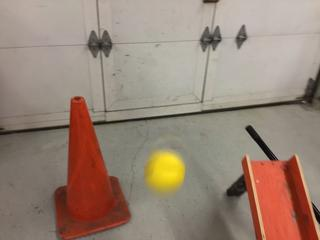power_cell: (140, 150, 189, 194)
